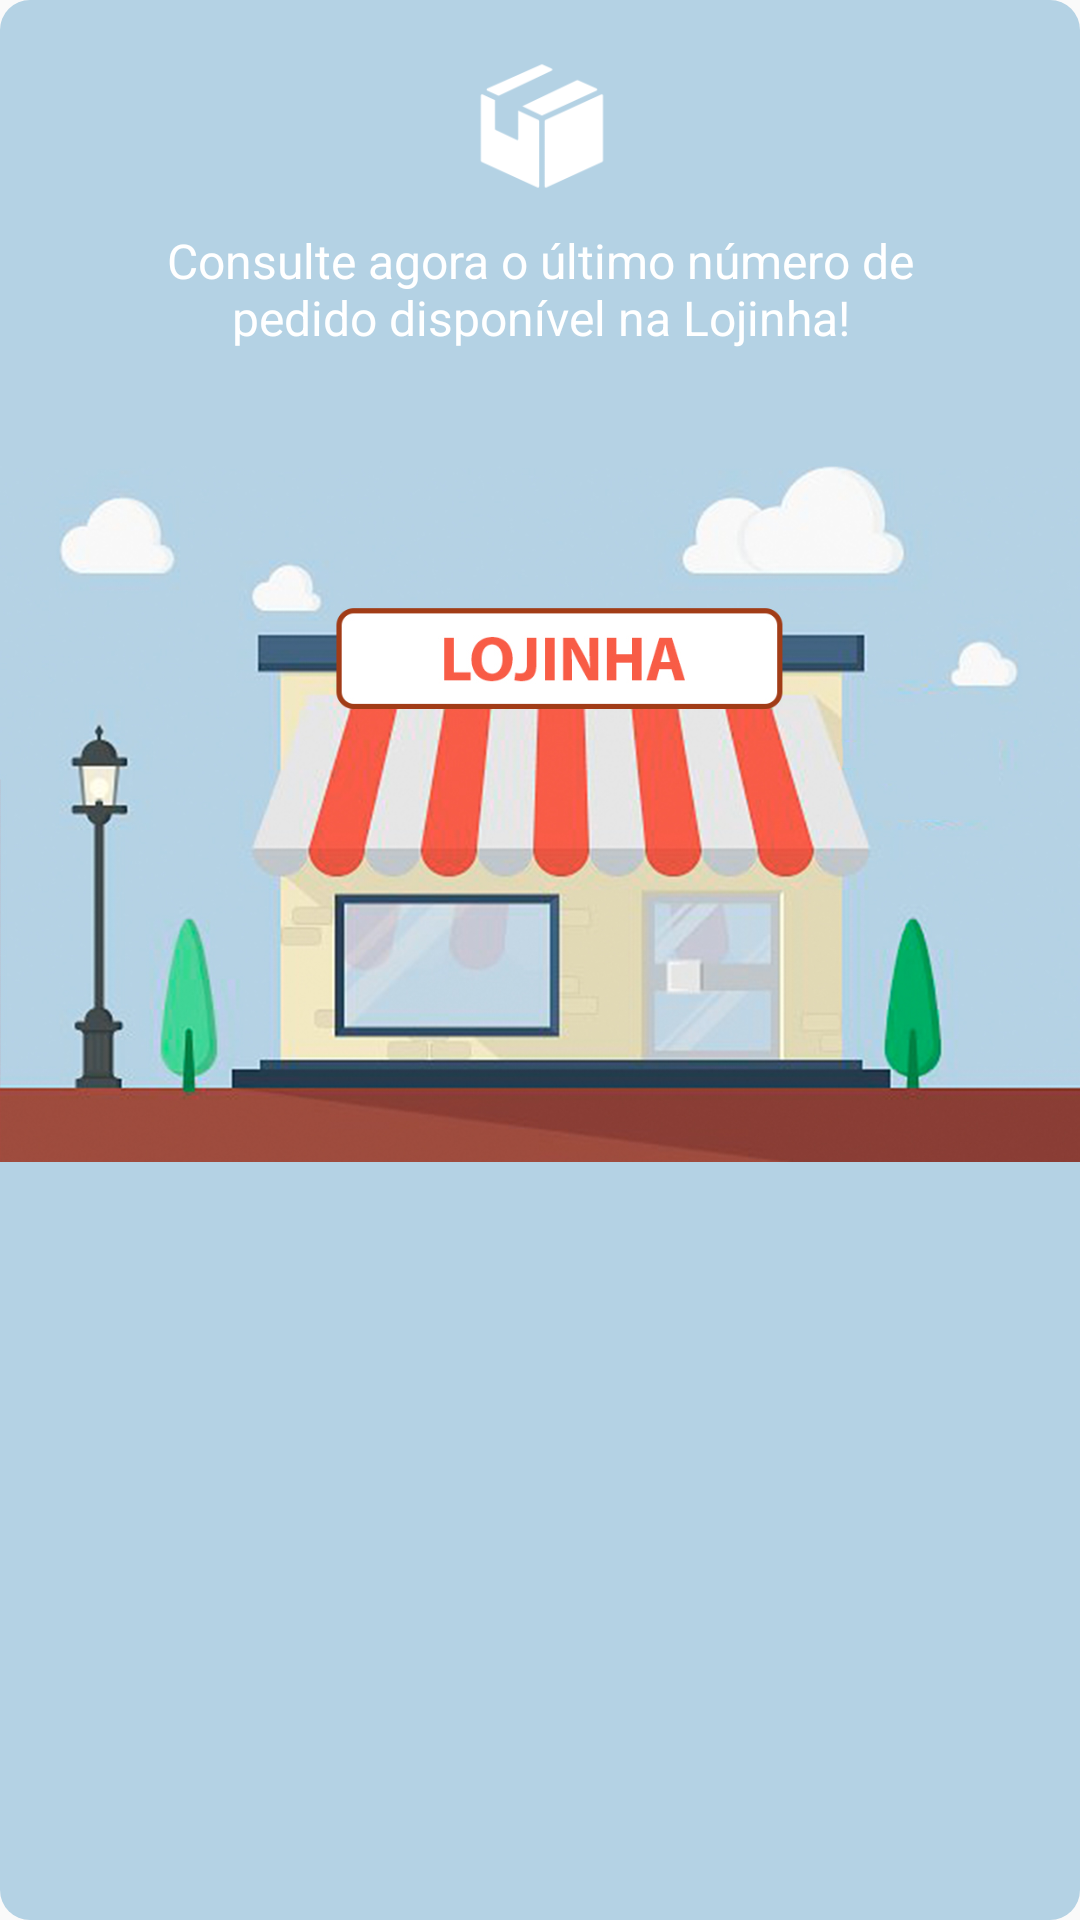

Where icons sit on this 1080 × 1920 app screen, as (x1, y1, x2, y2):
box: (481, 64, 603, 188)
